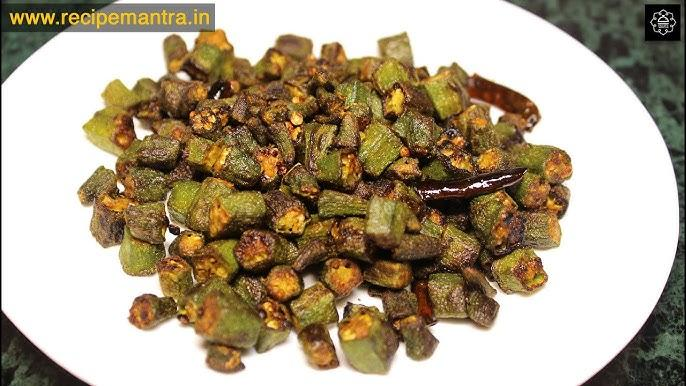bhindi: (105, 84, 554, 351)
